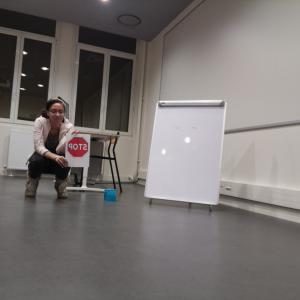stop: (67, 136, 89, 158)
